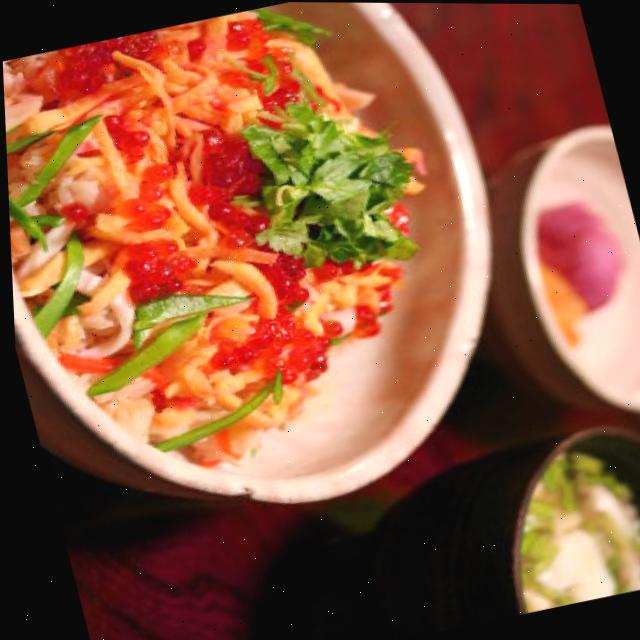寿司卷物: (0, 0, 540, 568)
